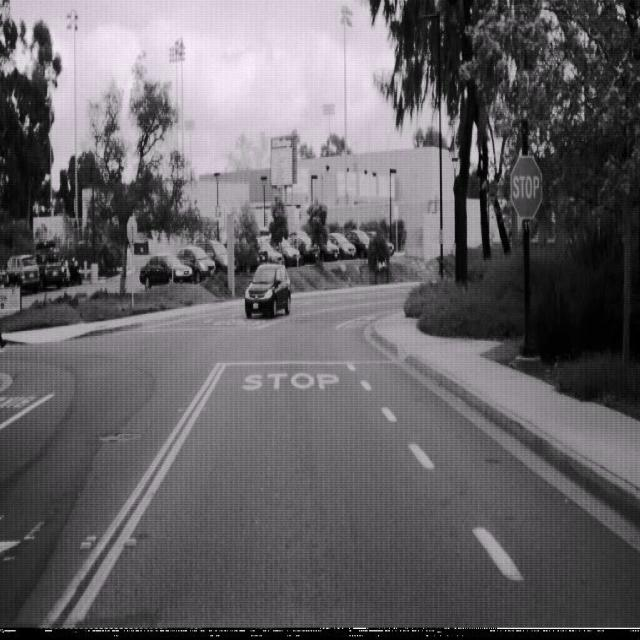stop: (510, 153, 543, 220)
